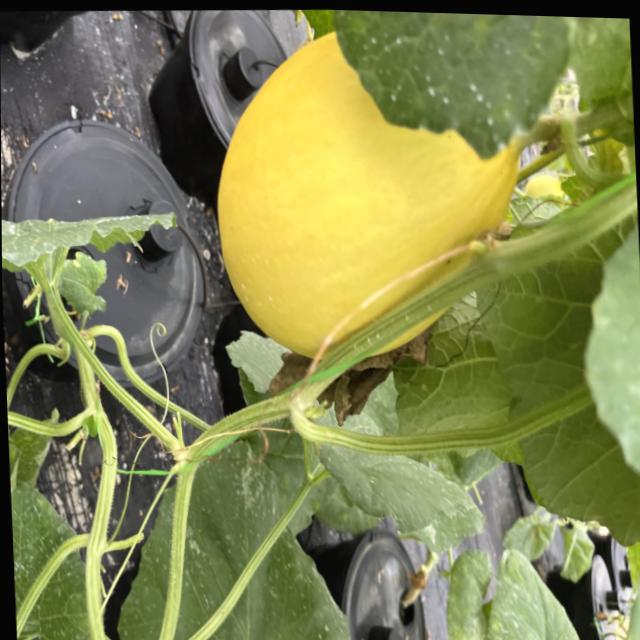downy mildew: (435, 541, 584, 640)
powdery mildew: (108, 436, 353, 640), (296, 432, 491, 569), (1, 165, 175, 296), (9, 489, 92, 640), (5, 371, 63, 531)
